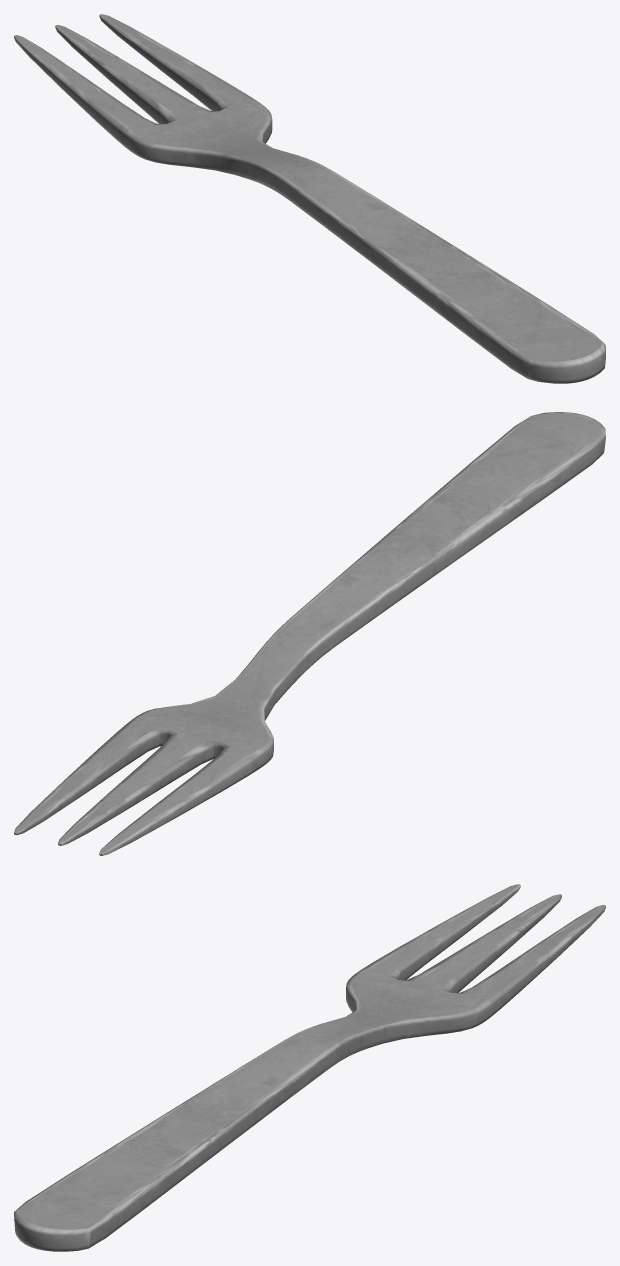
The model's file is Fork.fbx.
The picture shows the model from 3 angles, top to bottom: view 1: azimuth 30°, elevation 25°; view 2: azimuth 150°, elevation 25°; view 3: azimuth 330°, elevation 25°; orthographic projection.
Parts seen in each view (by area): view 1: Fork; view 2: Fork; view 3: Fork.
Boxes of the visible parts, <box> form: Fork: <box>14,14,605,383</box>; Fork: <box>14,412,605,855</box>; Fork: <box>14,884,605,1251</box>.
Bounding box in the file's own units: 2.48 × 1.04 × 17.05.
